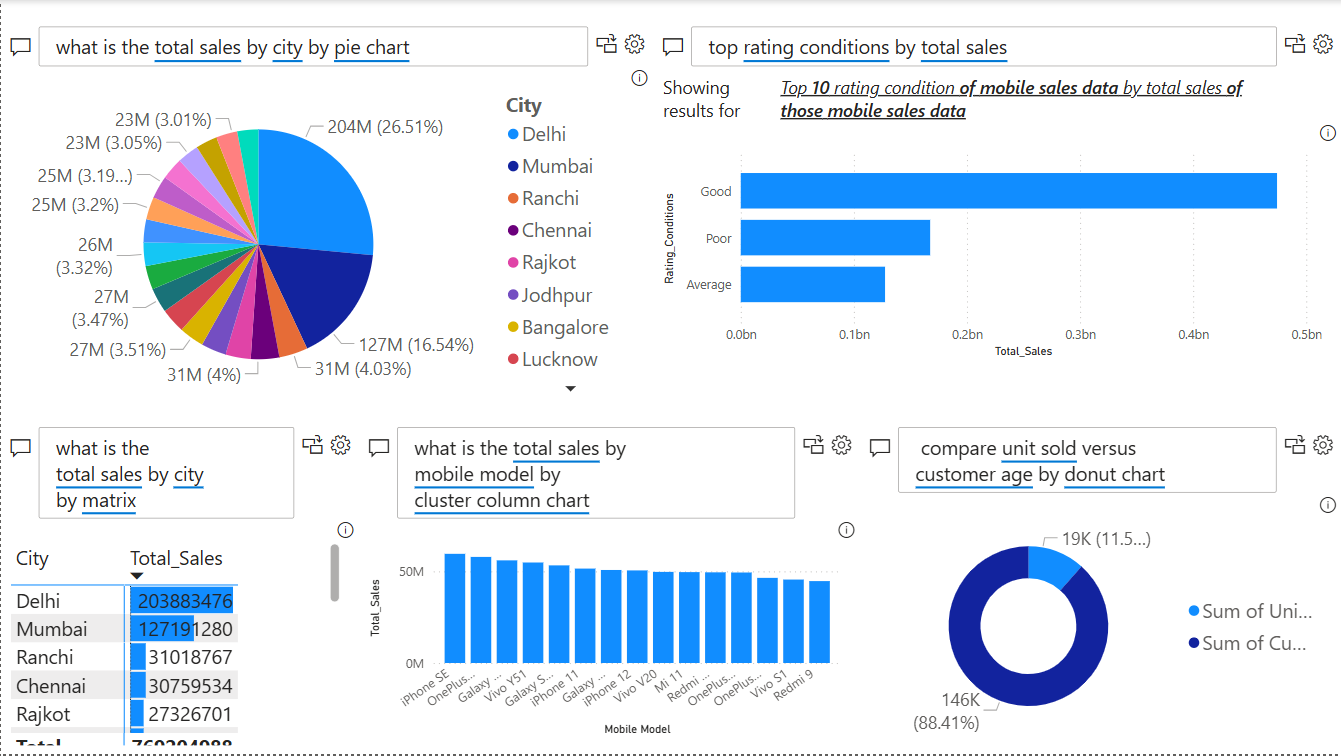

This screenshot's page, from the dashboard's own definition file:
{"tool":"powerbi","page":{"name":"Q&A","canvas":[1280,720],"ordinal":3},"visuals":[{"type":"qnaVisual","box":[0,0,623.1,398.2],"z":0},{"type":"qnaVisual","box":[623.1,0,657.5,359.5],"z":1000},{"type":"qnaVisual","box":[0,382.4,342.3,338],"z":2000},{"type":"qnaVisual","box":[342.3,382.4,478.4,338],"z":3000},{"type":"qnaVisual","box":[820.8,382.4,459.8,338],"z":4000}]}

Visuals, with their boxes in screenshot pixels (x1, y1, x2, y2), scaled from the page's 1280x720 canvas onto the 1341x756 screenshot:
qnaVisual: {"x1": 0, "y1": 0, "x2": 653, "y2": 418}
qnaVisual: {"x1": 653, "y1": 0, "x2": 1340, "y2": 377}
qnaVisual: {"x1": 0, "y1": 402, "x2": 359, "y2": 755}
qnaVisual: {"x1": 359, "y1": 402, "x2": 860, "y2": 755}
qnaVisual: {"x1": 860, "y1": 402, "x2": 1340, "y2": 755}
